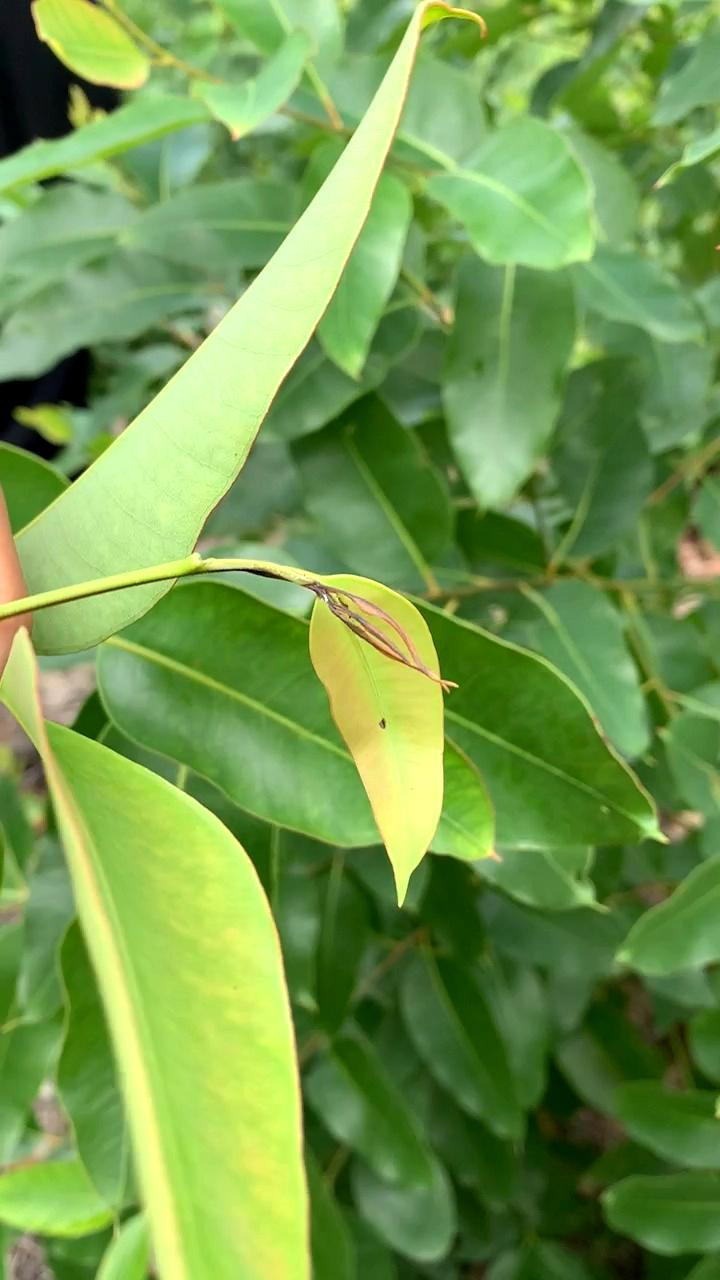Helopeltis-Withered Sprout: (313, 560, 461, 695)
